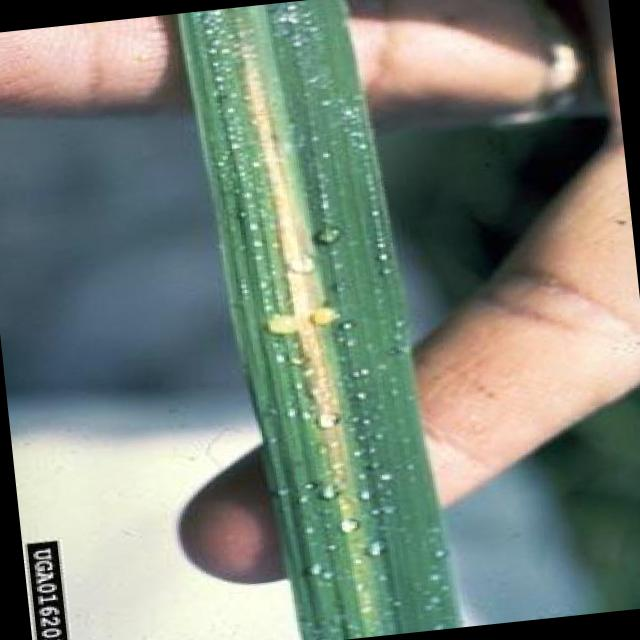Rice_Bacterial_Blight: (218, 9, 386, 572)
